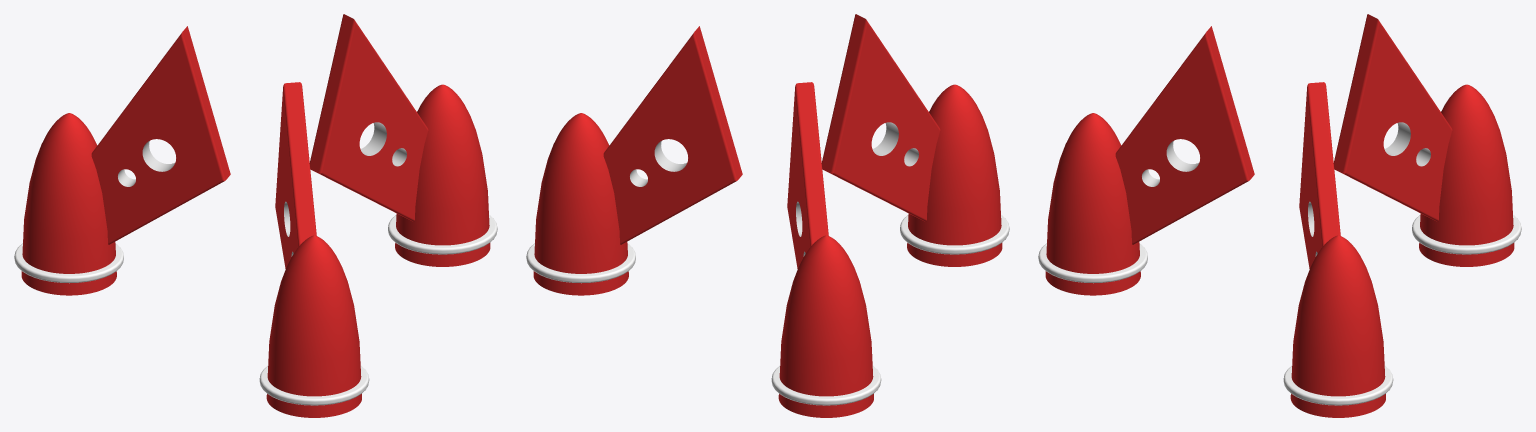
File: poten.dae
3 views of the same model, side by side, from view 1: azimuth 30°, elevation 25°; view 2: azimuth 150°, elevation 25°; view 3: azimuth 270°, elevation 25° (orthographic).
Visible parts, largest first — view 1: engine (×3), Cap_1, Cap_2 (×2), houder (×3), Cylinder (×4), Rounding_2 (×2), Rounding_1; view 2: engine (×3), Cap_1, Cap_2 (×2), houder (×3), Cylinder (×4), Rounding_2 (×2), Rounding_1; view 3: engine (×3), Cap_1, Cap_2 (×2), houder (×3), Cylinder (×4), Rounding_2 (×2), Rounding_1.
Part boxes in pixels (left/top/right/bottom): engine (×3): left=21, top=84, right=490, bottom=417; Cap_1: left=92, top=37, right=221, bottom=242; Cap_2 (×2): left=275, top=24, right=427, bottom=268; houder (×3): left=182, top=14, right=402, bottom=243; Cylinder (×4): left=14, top=122, right=497, bottom=405; Rounding_2 (×2): left=275, top=19, right=428, bottom=246; Rounding_1: left=91, top=32, right=225, bottom=244; engine (×3): left=533, top=84, right=1002, bottom=417; Cap_1: left=604, top=37, right=733, bottom=242; Cap_2 (×2): left=787, top=24, right=939, bottom=268; houder (×3): left=694, top=14, right=914, bottom=243; Cylinder (×4): left=526, top=122, right=1009, bottom=405; Rounding_2 (×2): left=787, top=19, right=940, bottom=246; Rounding_1: left=603, top=32, right=737, bottom=244; engine (×3): left=1045, top=84, right=1514, bottom=417; Cap_1: left=1116, top=37, right=1245, bottom=242; Cap_2 (×2): left=1299, top=24, right=1451, bottom=268; houder (×3): left=1206, top=14, right=1426, bottom=243; Cylinder (×4): left=1038, top=122, right=1521, bottom=405; Rounding_2 (×2): left=1299, top=19, right=1452, bottom=246; Rounding_1: left=1115, top=32, right=1249, bottom=244.
Bounding box in the file's own units: 2215 × 1382 × 2293.
